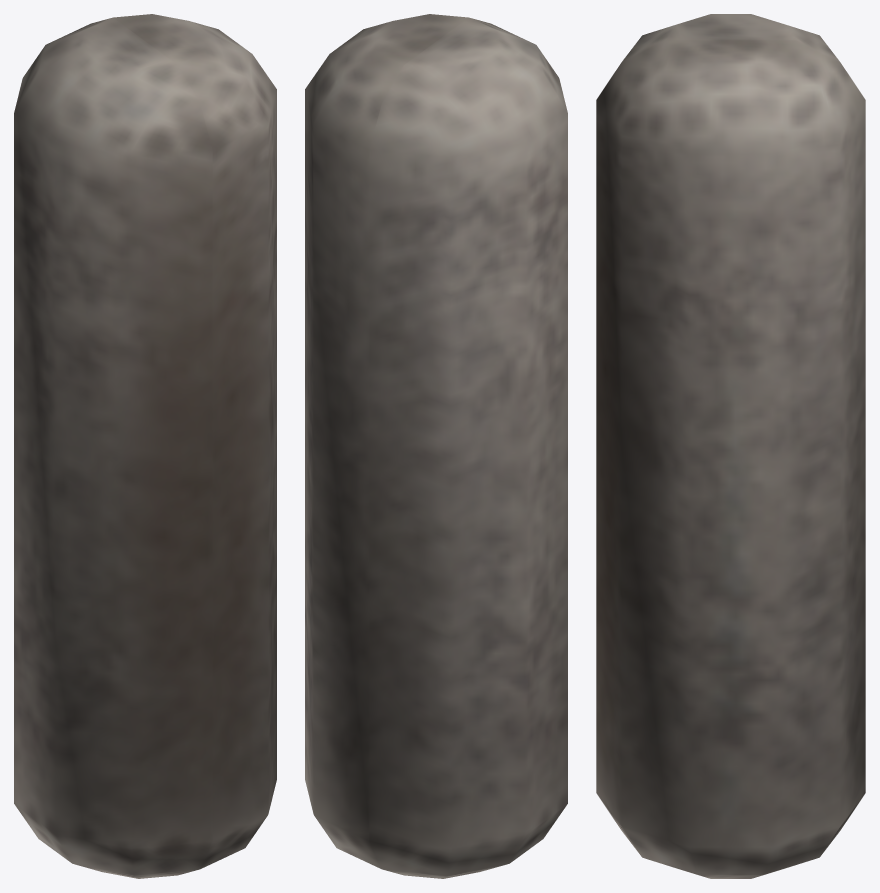
File: SM_Mortar.fbx
3 renders of one model, left to right at view 1: azimuth 30°, elevation 25°; view 2: azimuth 150°, elevation 25°; view 3: azimuth 270°, elevation 25°, orthographic.
Visible parts, largest first — view 1: SM_Mortar_LOD0; view 2: SM_Mortar_LOD0; view 3: SM_Mortar_LOD0.
Part boxes in pixels (x1,y1,x2,y2): SM_Mortar_LOD0: [14, 14, 276, 878]; SM_Mortar_LOD0: [305, 14, 567, 878]; SM_Mortar_LOD0: [596, 14, 865, 878].
Bounding box in the file's own units: 4.38 × 4.61 × 15.33.
1 material, 1 textured.
